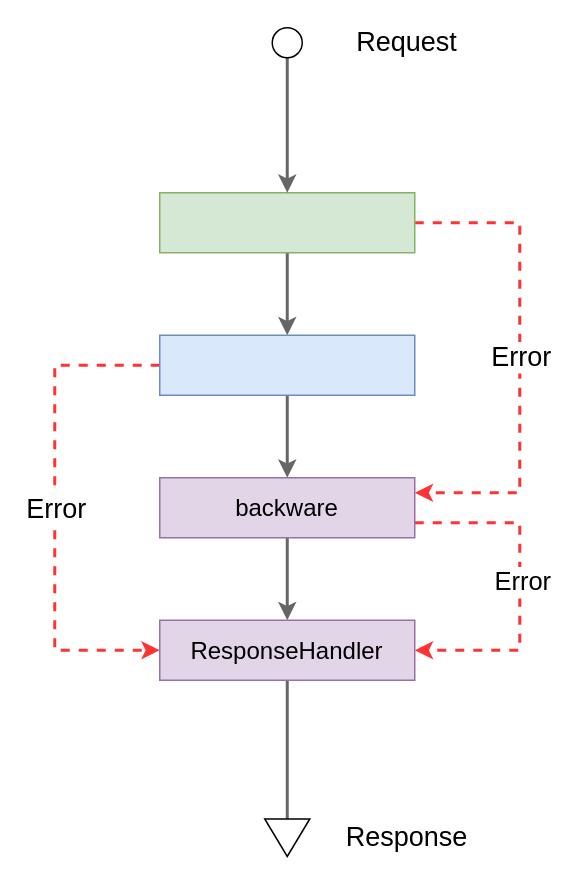
Some shapes in this 576 by 882 pixel diagram are drawn without their labels. Here are the shapes that lost their labels. From the top down, the centre of each, then its label:
point 286,222: fontware
point 286,364: executer
